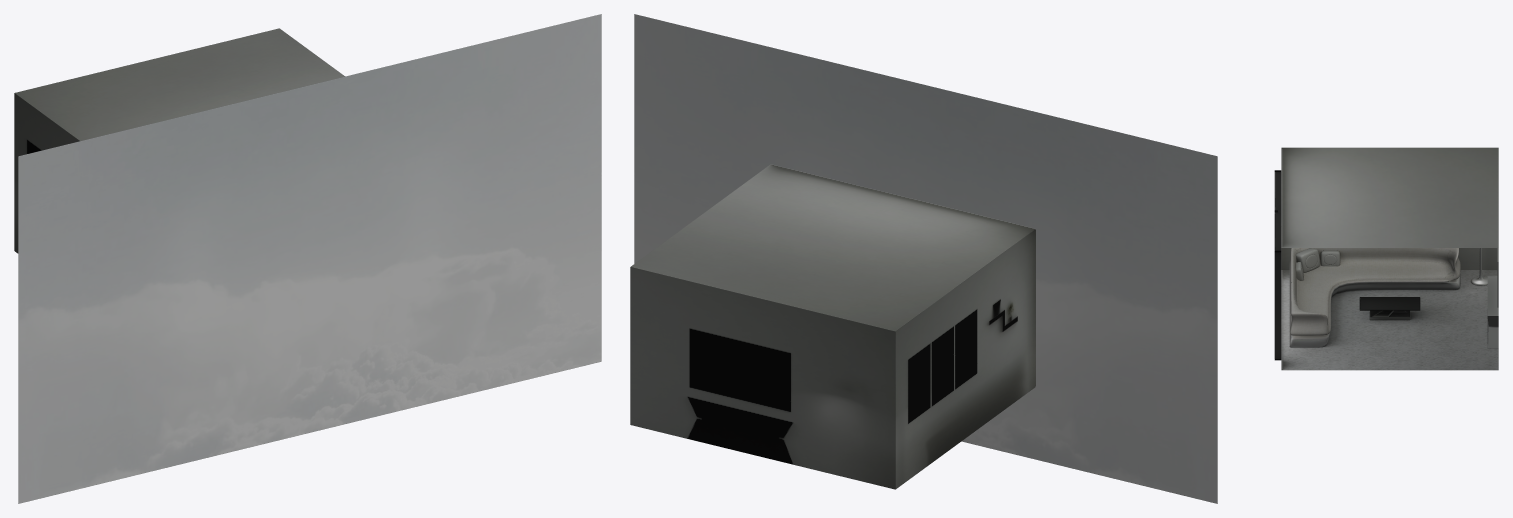
File: Modern Living Room.fbx
The picture shows the model from 3 angles, left to right: view 1: azimuth 30°, elevation 25°; view 2: azimuth 150°, elevation 25°; view 3: azimuth 270°, elevation 25°; orthographic projection. The views are drawn at different scales.
Parts seen in each view (by area): view 1: Structure; view 2: Structure; view 3: Structure, Sofa, CoffeeTable, Pillows, TVStand.
Boxes of the visible parts, left/top/right/bottom form: Structure: left=14, top=14, right=601, bottom=503; Structure: left=630, top=14, right=1217, bottom=503; Structure: left=1274, top=147, right=1498, bottom=370; Sofa: left=1289, top=248, right=1460, bottom=347; CoffeeTable: left=1359, top=297, right=1420, bottom=320; Pillows: left=1296, top=248, right=1340, bottom=280; TVStand: left=1487, top=276, right=1498, bottom=348.
Bounding box in the file's own units: 5169 × 2944 × 2502.
Materials: 10 (9 with a texture image).
